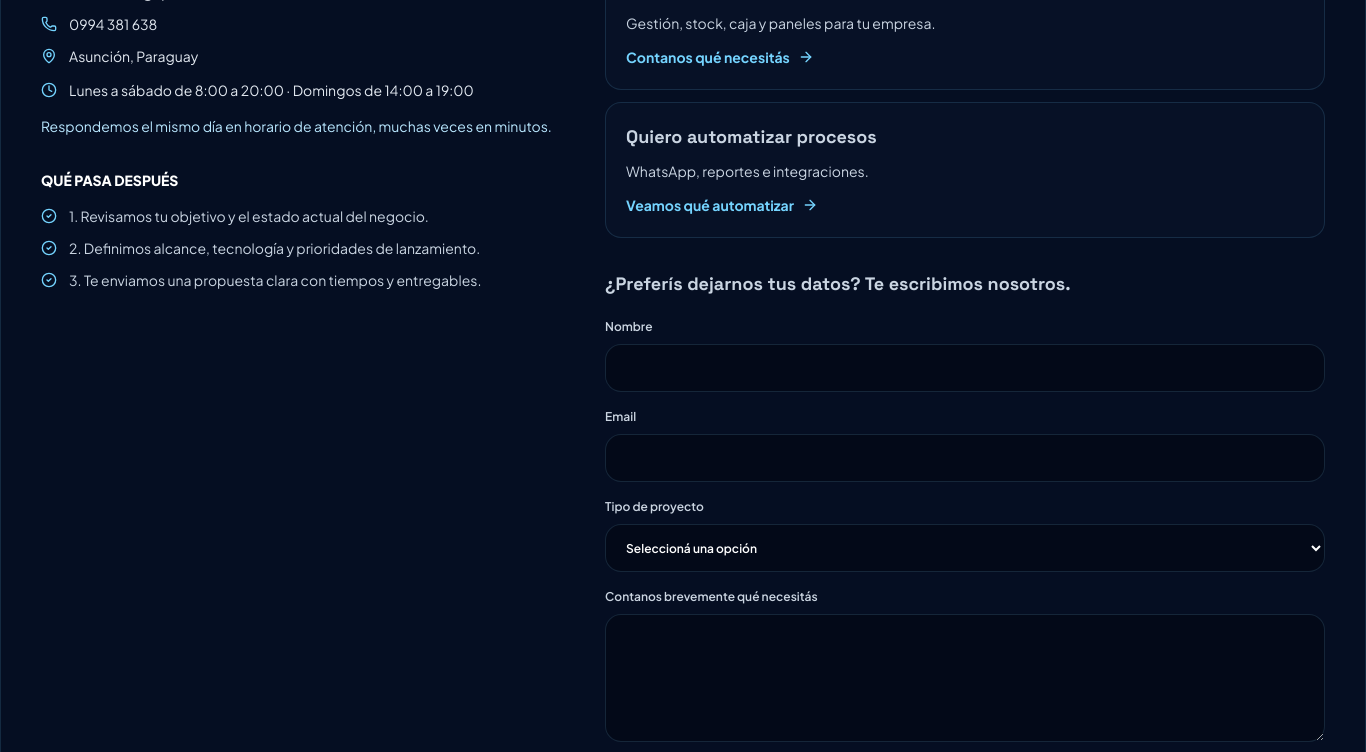
Test: Contact › pide un token Turnstile nuevo después de un envío fallido
(page scrolled)
Type "Ada" into the field labelled "Nombre" at point(965, 368), box [605,344,1325,392]
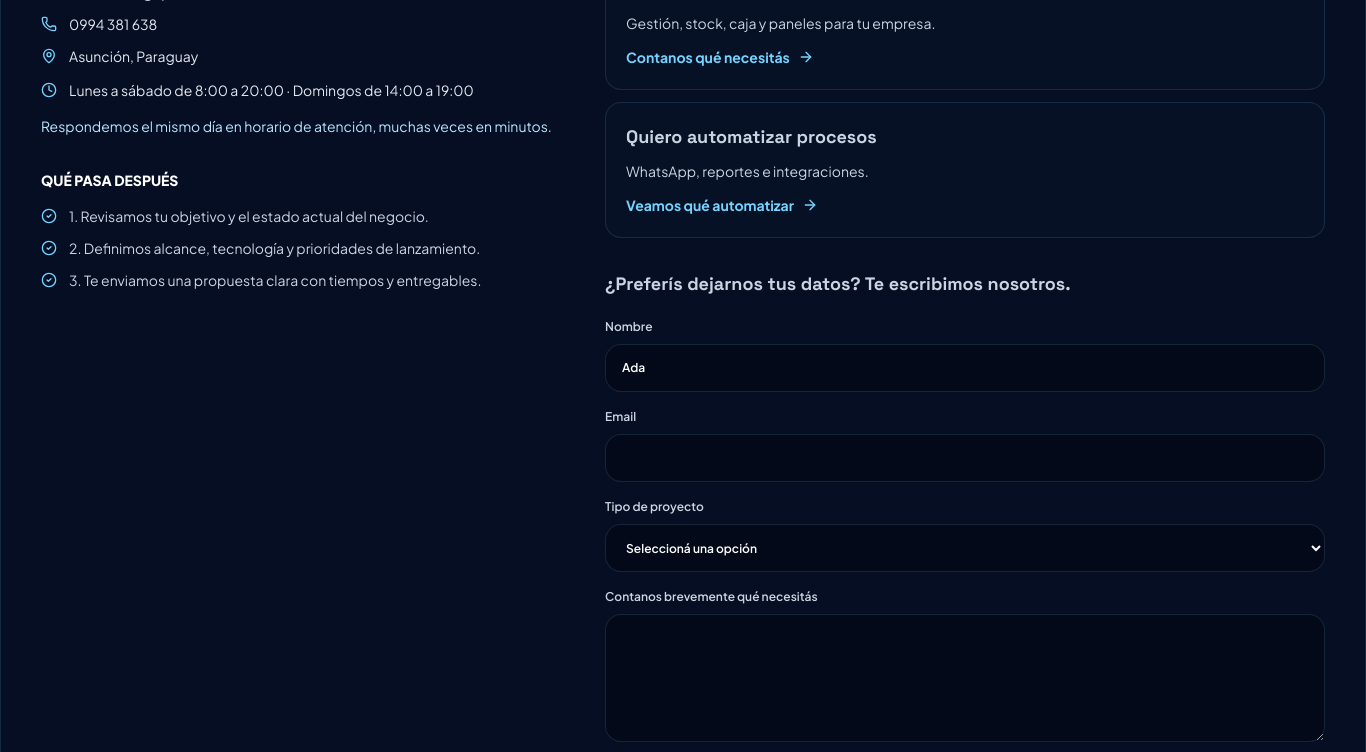
Type "ada@example.com" into the field labelled "Email" at point(965, 458), box [605,434,1325,482]
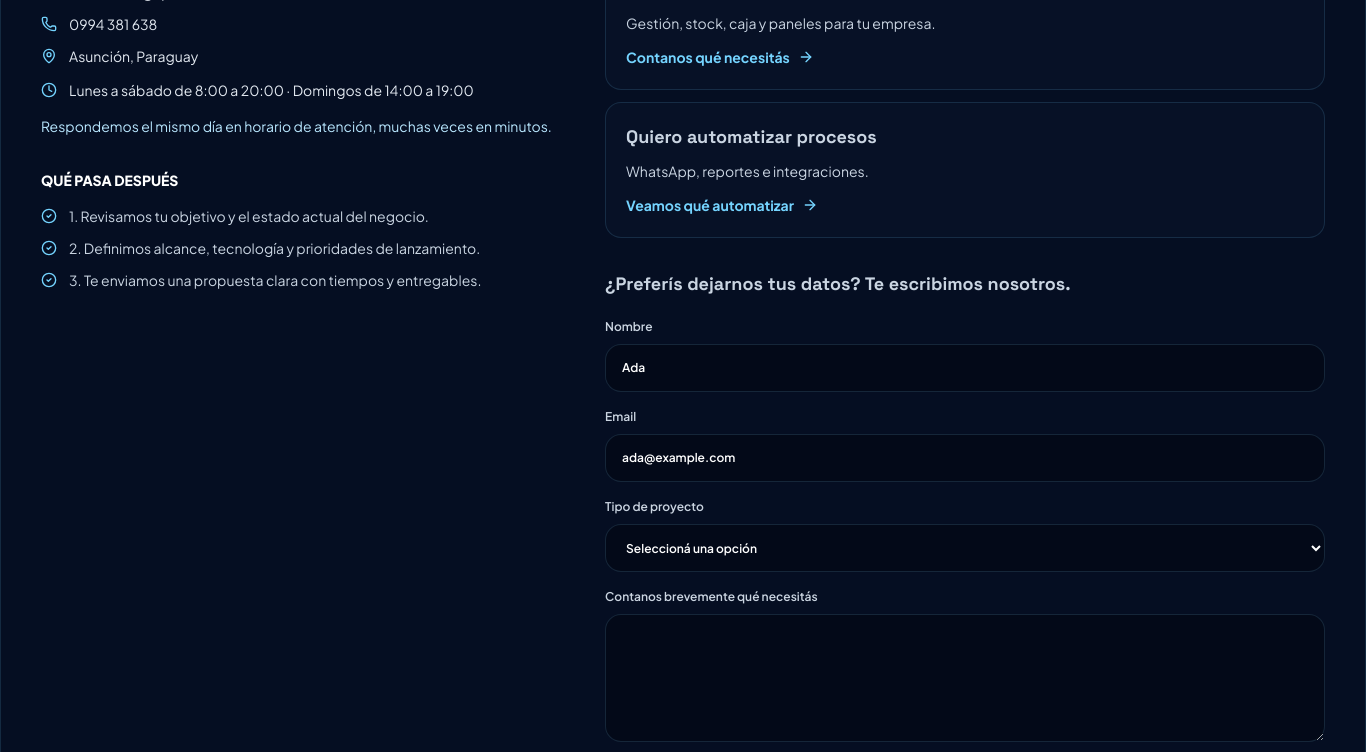
Select "Desarrollo Web" in the dropdown labelled "Tipo de proyecto" at point(965, 548), box [605,524,1325,572]
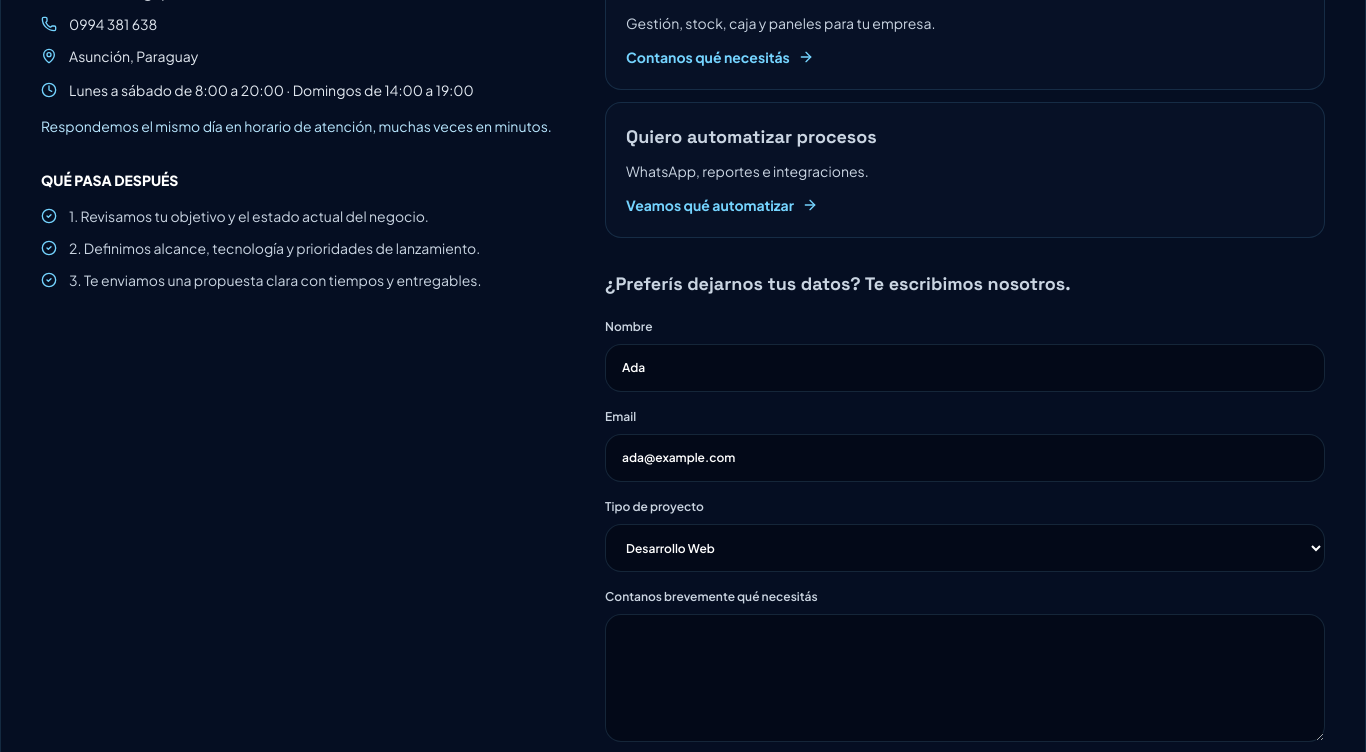
Type "Necesito una nueva landing." into the text box labelled "Contanos brevemente qué necesitás" at point(965, 678), box [605,614,1325,742]
(page scrolled)
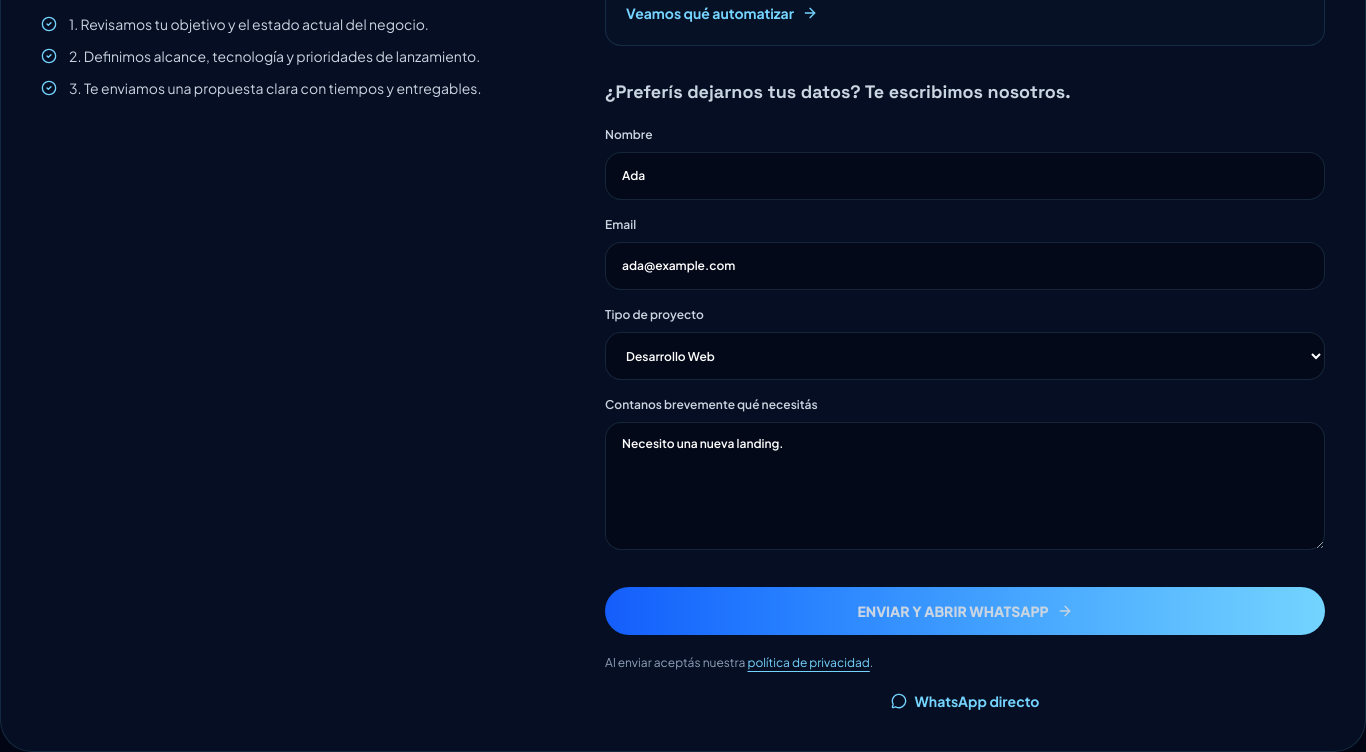
Submit the form named "Enviar y abrir WhatsApp", box [605,126,1325,711]
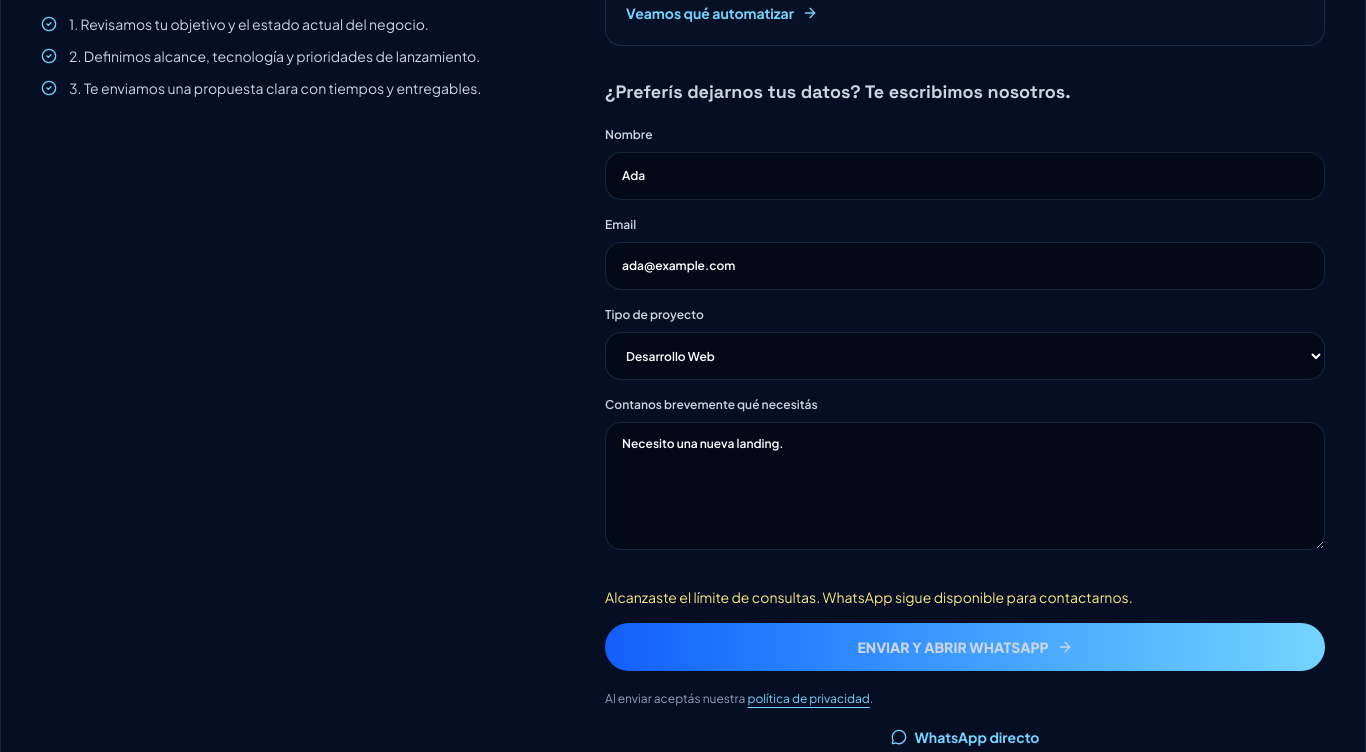
Expected: the text "Alcanzaste el límite de consultas" is shown, [605,588,1133,606]
Submit the form named "Enviar y abrir WhatsApp", box [605,126,1325,747]
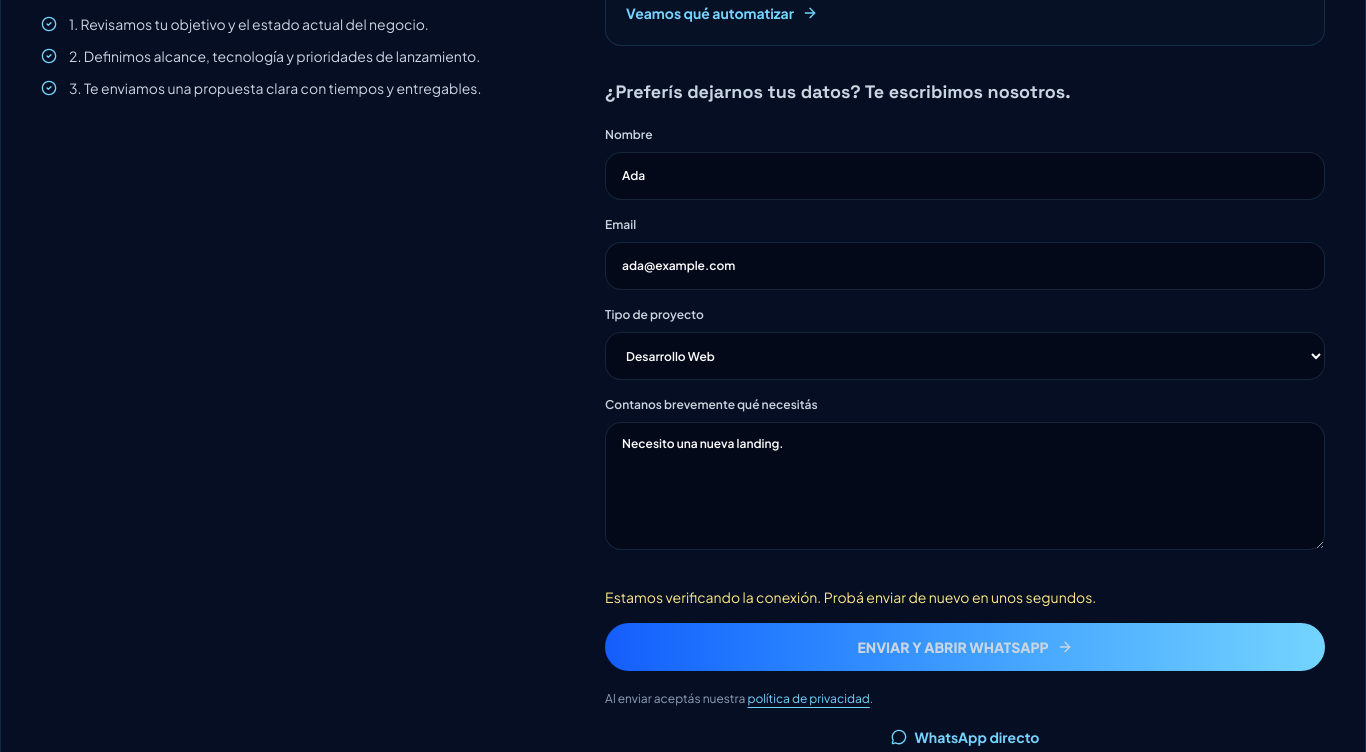
Expected: the text "Estamos verificando la conexión. Probá enviar de nuevo en unos segundos." is shown, [605,588,1096,606]
